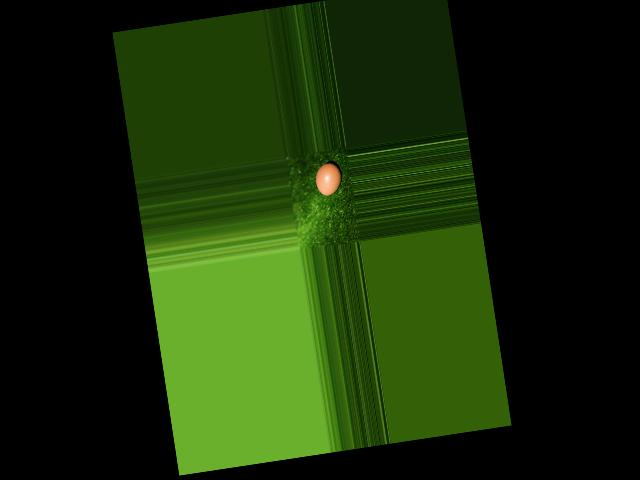egg: (314, 161, 344, 197)
